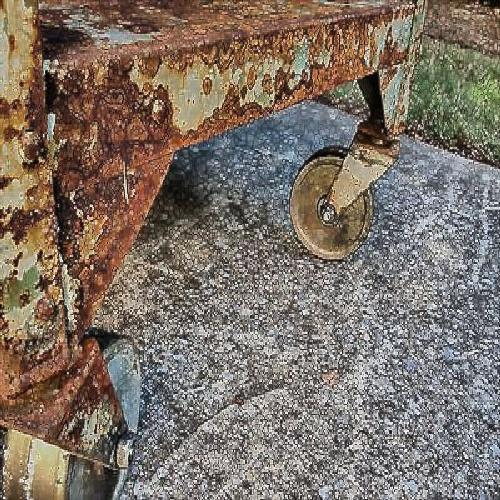table: (22, 12, 398, 294)
